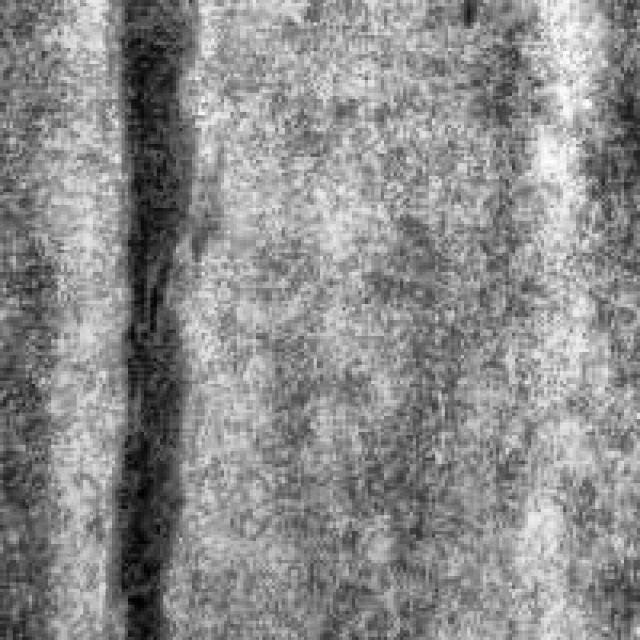Patches: (96, 0, 205, 634)
